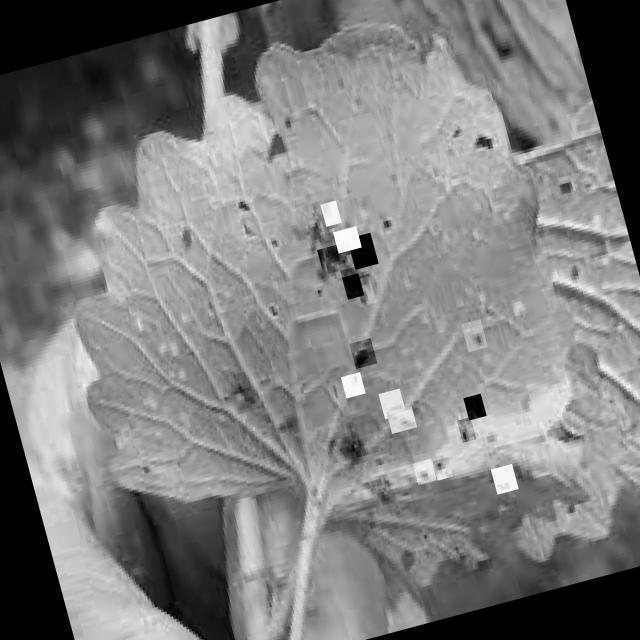aphid: (347, 232, 378, 269), (460, 318, 488, 352), (386, 406, 417, 434), (316, 243, 344, 274), (490, 464, 518, 494), (378, 388, 406, 418), (349, 338, 377, 368), (332, 226, 362, 253), (353, 276, 376, 306), (340, 372, 366, 398), (412, 458, 436, 484), (463, 393, 486, 420), (342, 272, 364, 300), (320, 200, 341, 226), (432, 457, 453, 480), (457, 417, 476, 442)
